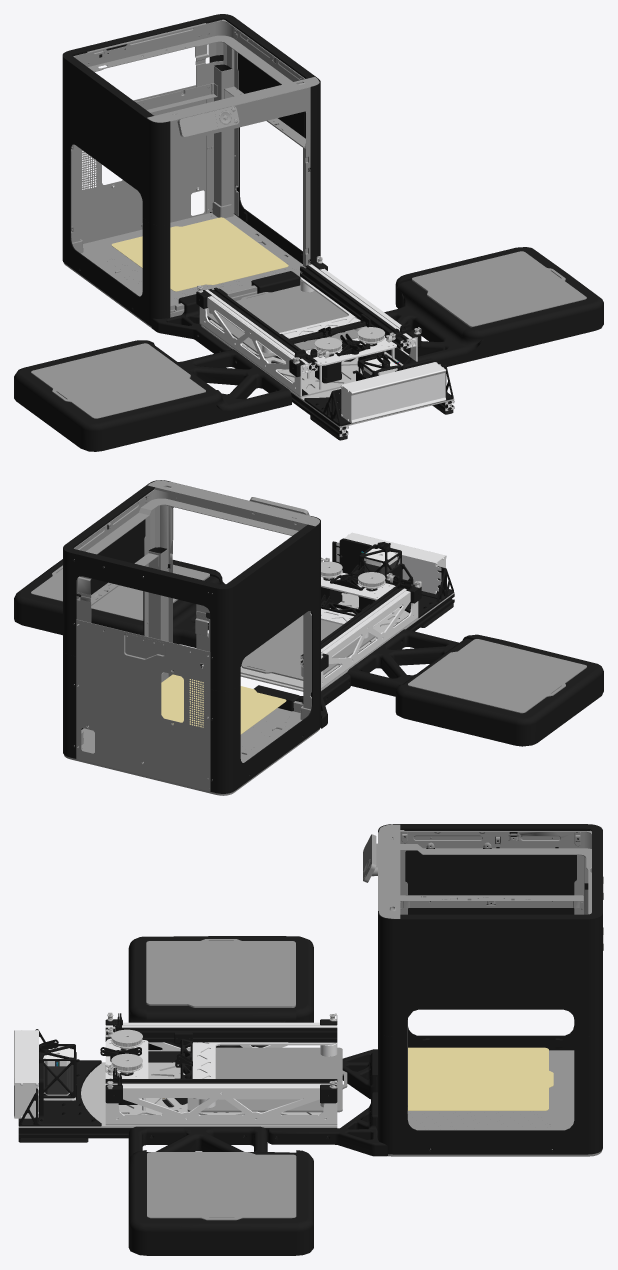
The picture shows the model from 3 angles, top to bottom: view 1: azimuth 30°, elevation 25°; view 2: azimuth 150°, elevation 25°; view 3: azimuth 270°, elevation 25°; orthographic projection. The views are drawn at different scales.
Parts seen in each view (by area): view 1: anim_bpr_21_G_PRINTER, anim_bpr_22_G_HOLDERS, anim_bpr_25_G_PLATE_R, anim_bpr_23_G_PLATE_L, anim_bpr_5_G_ROT, anim_bpr_2_G_STOCK, anim_bpr_0_G_EXT, anim_bpr_18_G_PSU, anim_bpr_24_G_PLATE_C, anim_bpr_14_G_BASE, anim_bpr_12_G_MIDPLATE, anim_bpr_19_G_BAY_L; view 2: anim_bpr_21_G_PRINTER, anim_bpr_22_G_HOLDERS, anim_bpr_23_G_PLATE_L, anim_bpr_5_G_ROT, anim_bpr_24_G_PLATE_C, anim_bpr_2_G_STOCK, anim_bpr_25_G_PLATE_R, anim_bpr_0_G_EXT, anim_bpr_18_G_PSU, anim_bpr_14_G_BASE, anim_bpr_19_G_BAY_L, anim_bpr_20_G_BAY_R (+2 smaller); view 3: anim_bpr_21_G_PRINTER, anim_bpr_22_G_HOLDERS, anim_bpr_5_G_ROT, anim_bpr_23_G_PLATE_L, anim_bpr_25_G_PLATE_R, anim_bpr_2_G_STOCK, anim_bpr_0_G_EXT, anim_bpr_24_G_PLATE_C, anim_bpr_14_G_BASE, anim_bpr_12_G_MIDPLATE, anim_bpr_18_G_PSU, anim_bpr_20_G_BAY_R (+1 smaller).
Boxes of the visible parts, x1,y1,x2,y2 form: anim_bpr_21_G_PRINTER: [62, 14, 320, 327]; anim_bpr_22_G_HOLDERS: [14, 247, 603, 451]; anim_bpr_25_G_PLATE_R: [412, 251, 586, 327]; anim_bpr_23_G_PLATE_L: [31, 343, 205, 418]; anim_bpr_5_G_ROT: [196, 256, 421, 397]; anim_bpr_2_G_STOCK: [111, 217, 288, 291]; anim_bpr_0_G_EXT: [205, 264, 412, 372]; anim_bpr_18_G_PSU: [336, 362, 445, 423]; anim_bpr_24_G_PLATE_C: [207, 285, 357, 358]; anim_bpr_14_G_BASE: [230, 348, 454, 440]; anim_bpr_12_G_MIDPLATE: [201, 325, 454, 427]; anim_bpr_19_G_BAY_L: [304, 370, 396, 426]; anim_bpr_21_G_PRINTER: [63, 480, 320, 795]; anim_bpr_22_G_HOLDERS: [14, 559, 603, 746]; anim_bpr_23_G_PLATE_L: [408, 639, 586, 713]; anim_bpr_5_G_ROT: [200, 557, 421, 689]; anim_bpr_24_G_PLATE_C: [241, 615, 375, 680]; anim_bpr_2_G_STOCK: [161, 674, 286, 734]; anim_bpr_25_G_PLATE_R: [31, 564, 209, 620]; anim_bpr_0_G_EXT: [207, 575, 411, 666]; anim_bpr_18_G_PSU: [336, 532, 446, 594]; anim_bpr_14_G_BASE: [201, 542, 454, 673]; anim_bpr_19_G_BAY_L: [387, 563, 453, 618]; anim_bpr_20_G_BAY_R: [332, 538, 372, 593]; anim_bpr_21_G_PRINTER: [363, 824, 603, 1156]; anim_bpr_22_G_HOLDERS: [128, 936, 387, 1255]; anim_bpr_5_G_ROT: [100, 1012, 337, 1125]; anim_bpr_23_G_PLATE_L: [146, 939, 295, 1007]; anim_bpr_25_G_PLATE_R: [147, 1152, 296, 1220]; anim_bpr_2_G_STOCK: [408, 1047, 553, 1110]; anim_bpr_0_G_EXT: [105, 1013, 337, 1099]; anim_bpr_24_G_PLATE_C: [187, 1047, 347, 1112]; anim_bpr_14_G_BASE: [18, 1039, 336, 1142]; anim_bpr_12_G_MIDPLATE: [18, 1062, 337, 1127]; anim_bpr_18_G_PSU: [14, 1030, 38, 1118]; anim_bpr_20_G_BAY_R: [18, 1063, 101, 1126].
Size of the model in its own units: 1.19 by 0.4608 by 1.02.
